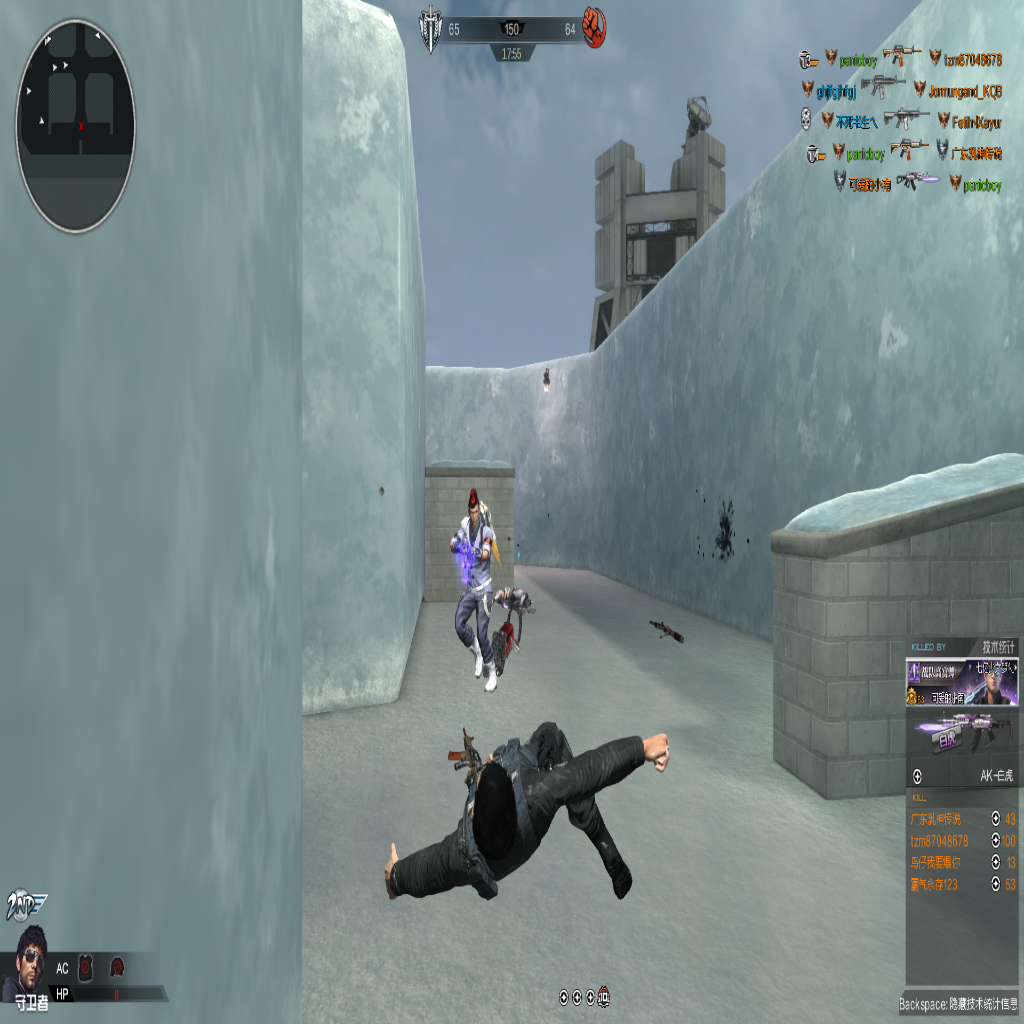tt: (450, 492, 501, 686)
